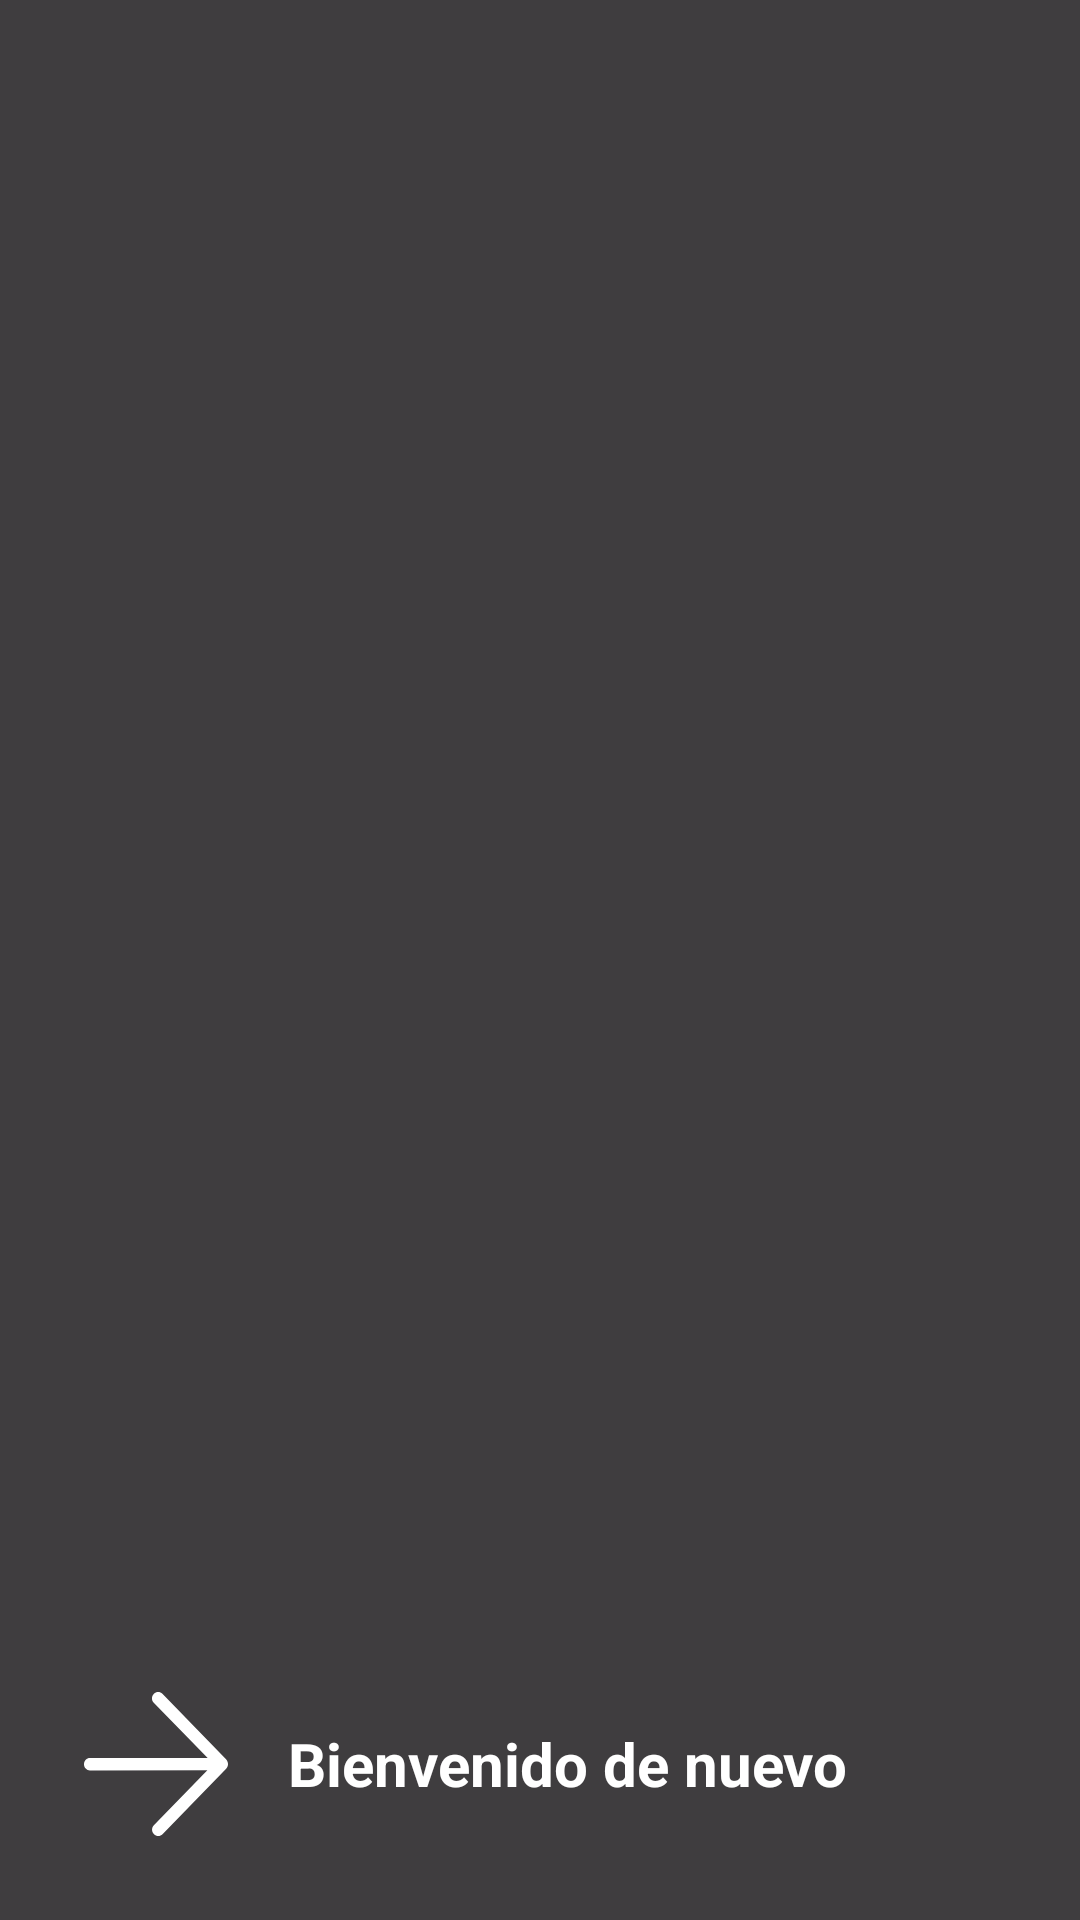

Icons on this 1080x1920 Android screen, each with its box as BBox(x1, y1, x2, y2):
avanzar: BBox(84, 1692, 228, 1836)
